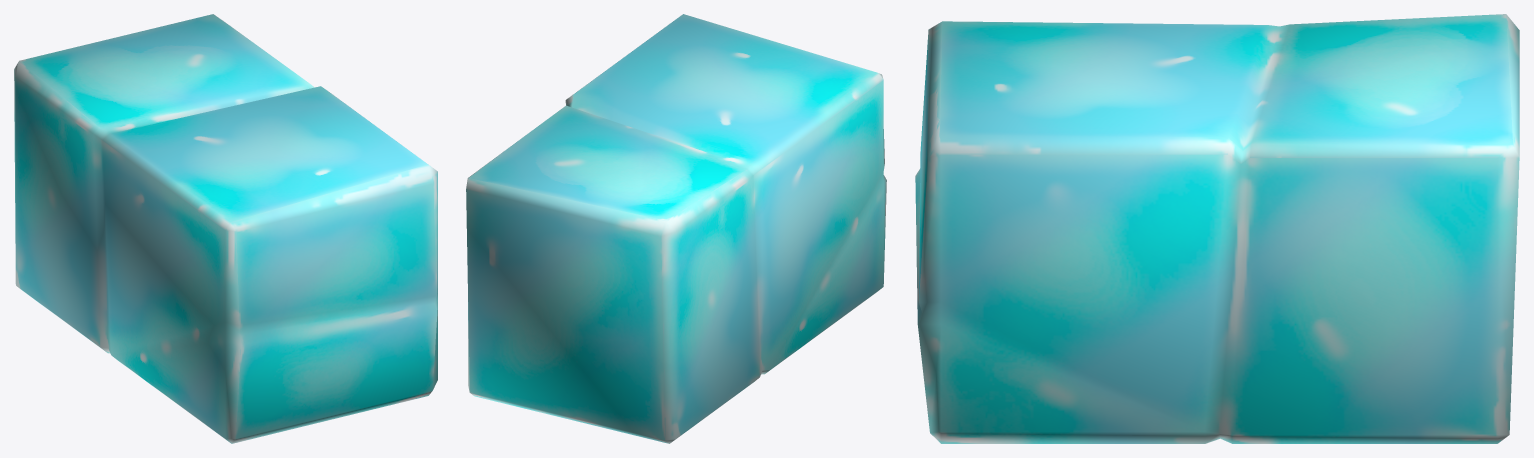
File: ice block.FBX
The picture shows the model from 3 angles, left to right: view 1: azimuth 30°, elevation 25°; view 2: azimuth 150°, elevation 25°; view 3: azimuth 270°, elevation 25°; orthographic projection. The views are drawn at different scales.
Parts seen in each view (by area): view 1: ChamferBox001; view 2: ChamferBox001; view 3: ChamferBox001.
Part boxes in pixels (x1=…): ChamferBox001: x1=14, y1=14, x2=437, y2=443; ChamferBox001: x1=466, y1=14, x2=886, y2=443; ChamferBox001: x1=915, y1=14, x2=1519, y2=443.
Bounding box in the file's own units: 63.92 × 66.65 × 118.
